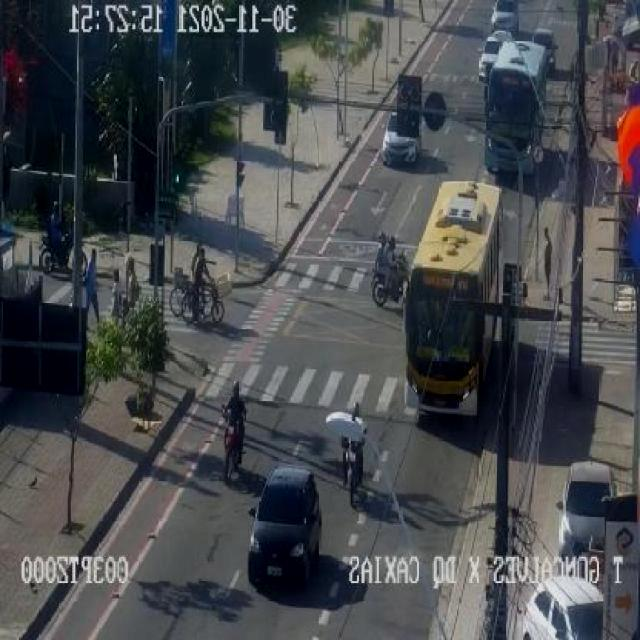Bus: (402, 177, 504, 421), (482, 38, 550, 175)
Car: (246, 468, 322, 584), (380, 111, 421, 162)
Cycle: (366, 235, 409, 304), (220, 380, 247, 480)
